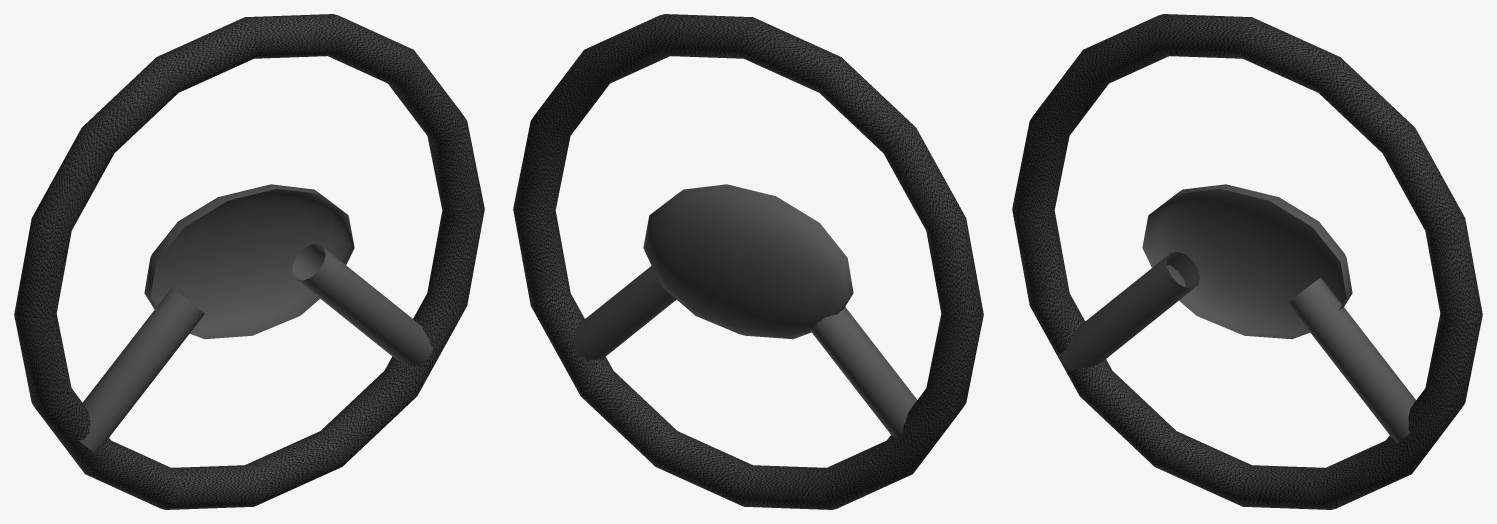
File: car_steeringwheel.obj
3 views of the same model, side by side, from view 1: azimuth 30°, elevation 25°; view 2: azimuth 150°, elevation 25°; view 3: azimuth 330°, elevation 25° (orthographic).
Parts seen in each view (by area): view 1: Mesh; view 2: Mesh; view 3: Mesh.
Boxes of the visible parts, box(x1,y1,x2,y2) form: Mesh: box(14, 14, 484, 509); Mesh: box(513, 14, 983, 509); Mesh: box(1012, 14, 1482, 509).
Bounding box in the file's own units: 0.0975 × 0.0975 × 0.0121.
